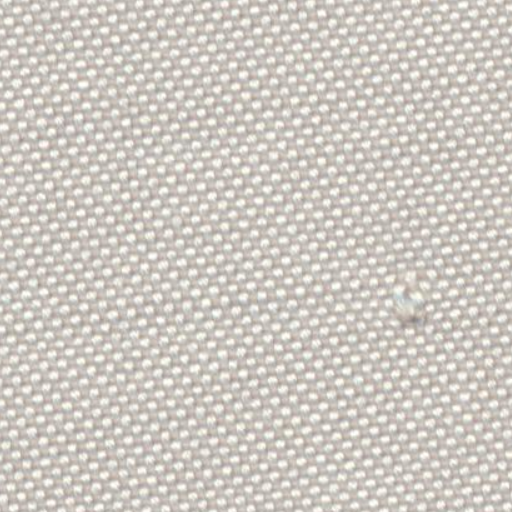PoDong: (380, 267, 452, 347)
